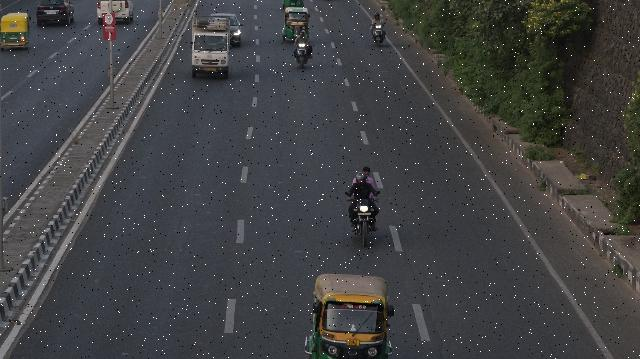With Helmet: (355, 171, 367, 188), (374, 12, 380, 20)
Without Helmet: (362, 166, 372, 178), (300, 32, 304, 38), (379, 14, 383, 20), (302, 30, 306, 36)
